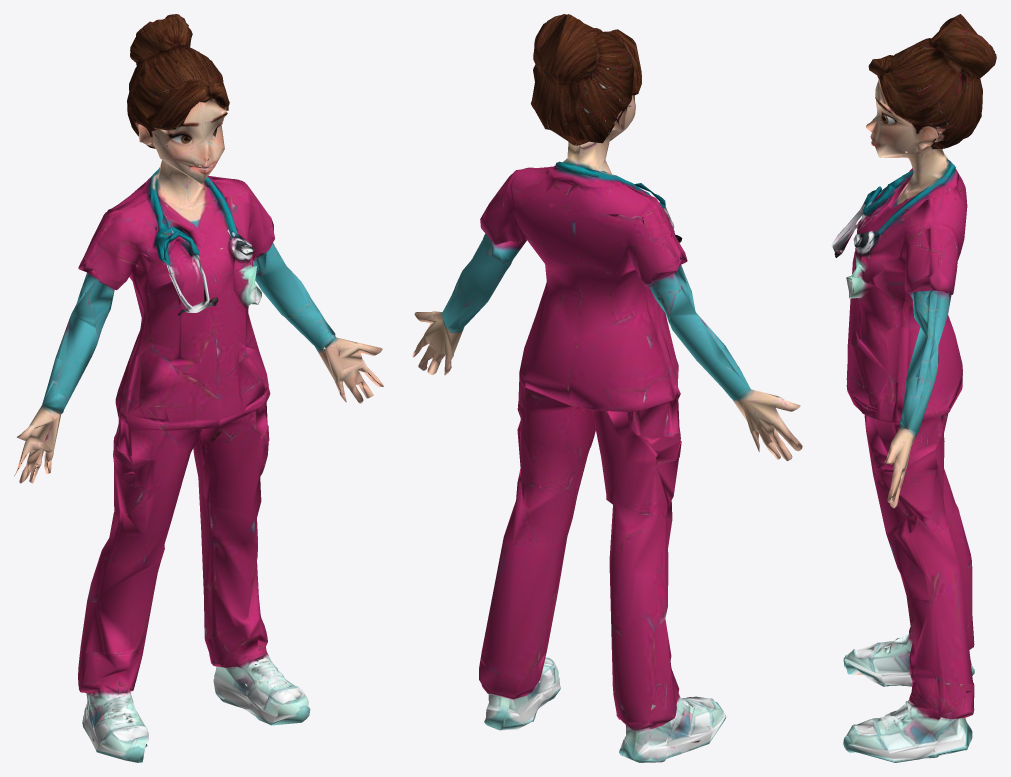
The model's file is nurse.glb.
3 views of the same model, side by side, from view 1: azimuth 30°, elevation 25°; view 2: azimuth 150°, elevation 25°; view 3: azimuth 270°, elevation 25° (orthographic). The views are drawn at different scales.
Parts seen in each view (by area): view 1: nurse; view 2: nurse; view 3: nurse.
Boxes of the visible parts, box(x1,y1,x2,y2) form: nurse: box(14, 14, 383, 762); nurse: box(412, 14, 802, 762); nurse: box(831, 14, 996, 762).
Bounding box in the file's own units: 0.9418 × 1.68 × 0.3622.
Materials: 1 (1 with a texture image).
